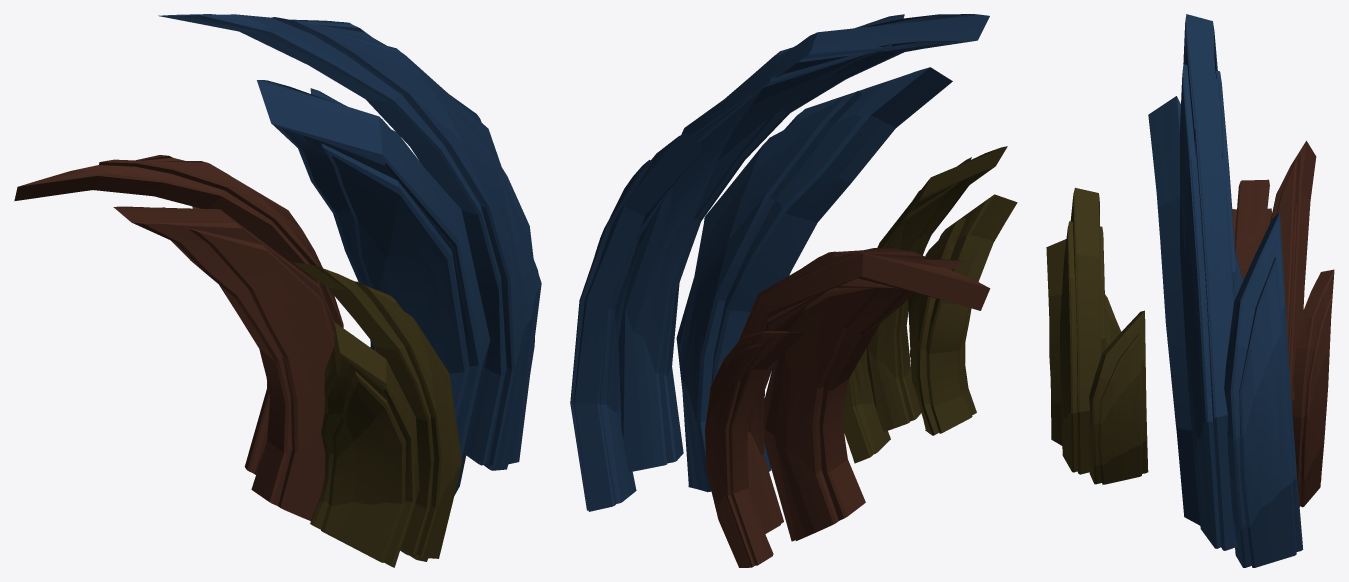
Rendered from StagCluster01CurveBigC_ID_H.fbx.
3 renders of one model, left to right at view 1: azimuth 30°, elevation 25°; view 2: azimuth 150°, elevation 25°; view 3: azimuth 270°, elevation 25°, orthographic. The views are drawn at different scales.
Visible parts, largest first — view 1: RocksStag_Cluster3; view 2: RocksStag_Cluster3; view 3: RocksStag_Cluster3.
Part boxes in pixels (left/top/right/bottom): RocksStag_Cluster3: left=14, top=14, right=541, bottom=567; RocksStag_Cluster3: left=570, top=14, right=1017, bottom=567; RocksStag_Cluster3: left=1046, top=14, right=1334, bottom=567.
Bounding box in the file's own units: 21.42 × 24.89 × 15.23.
